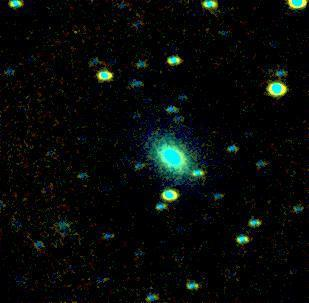star: (158, 120, 188, 150)
